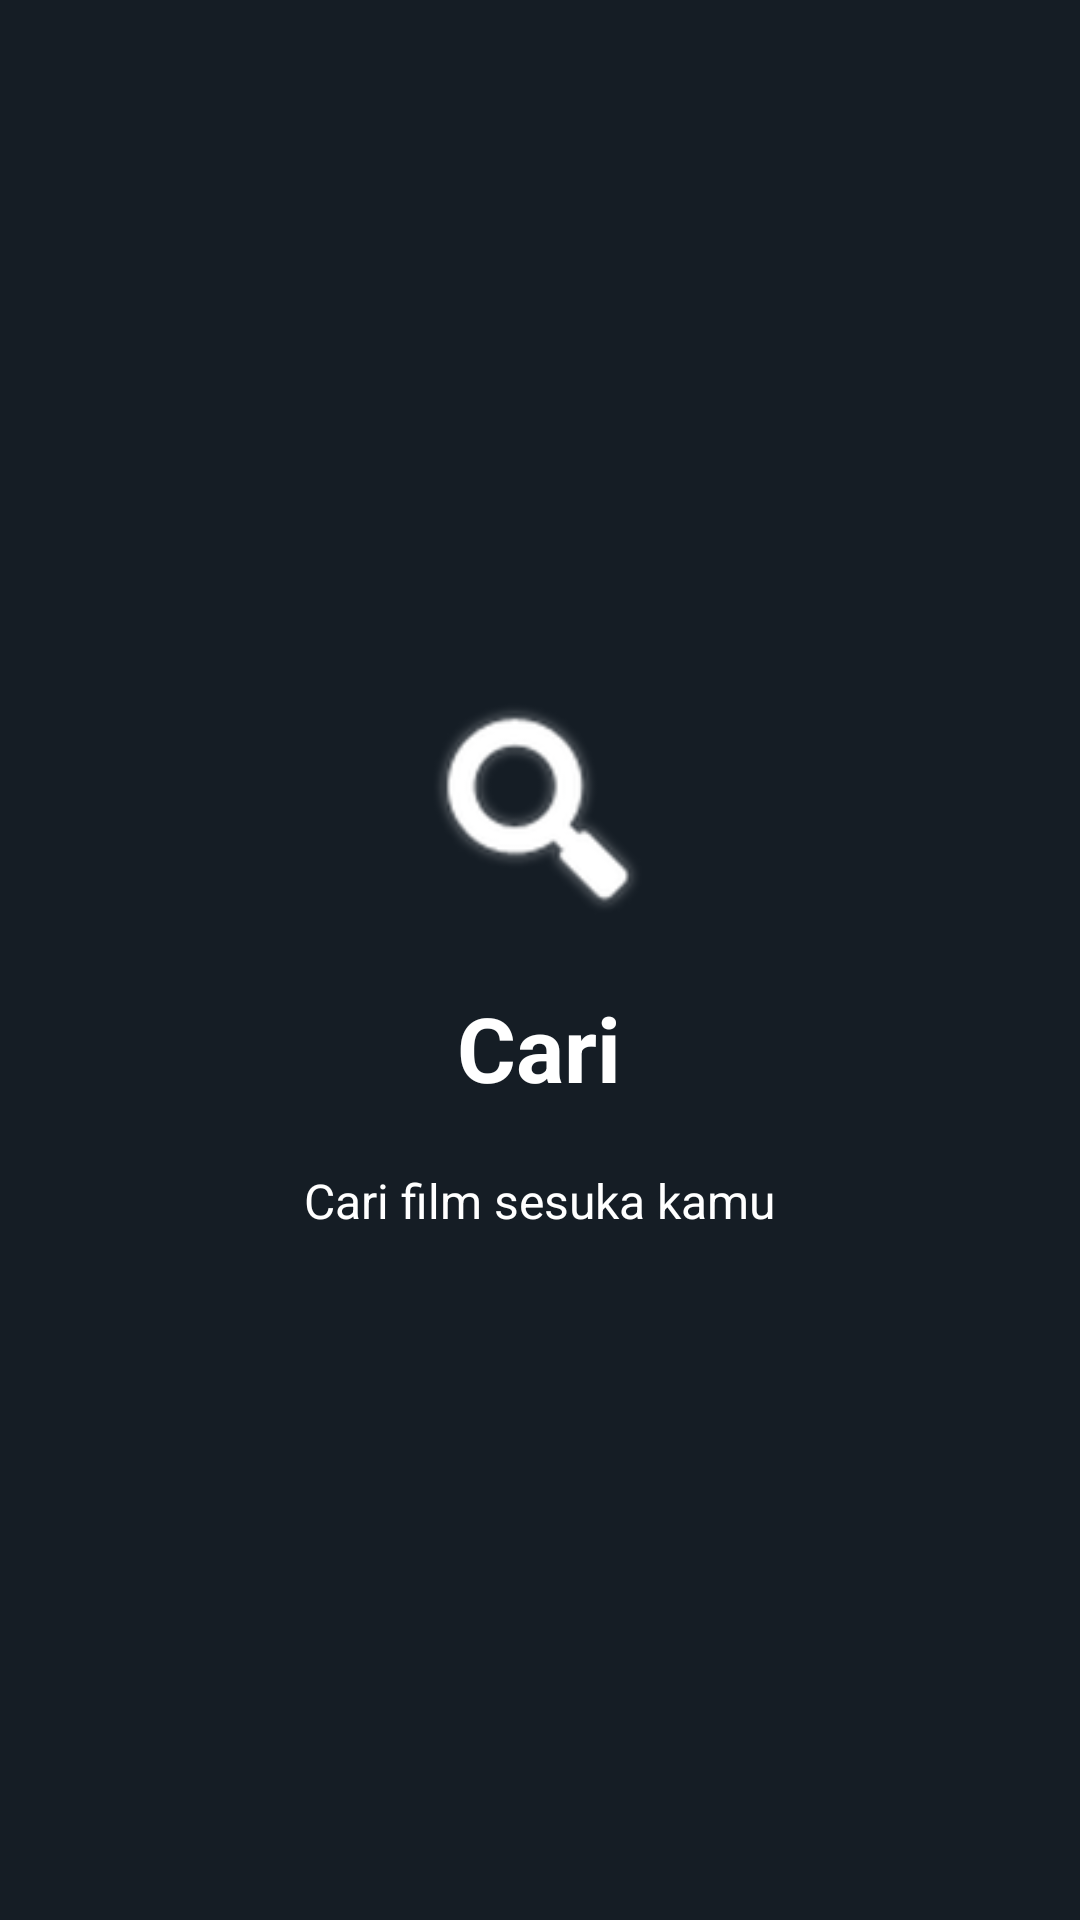

Named icons in this screenshot (1080*1920) and their bounding boxes, BBox(x1, y1, x2, y2):
search category: BBox(441, 711, 633, 904)
